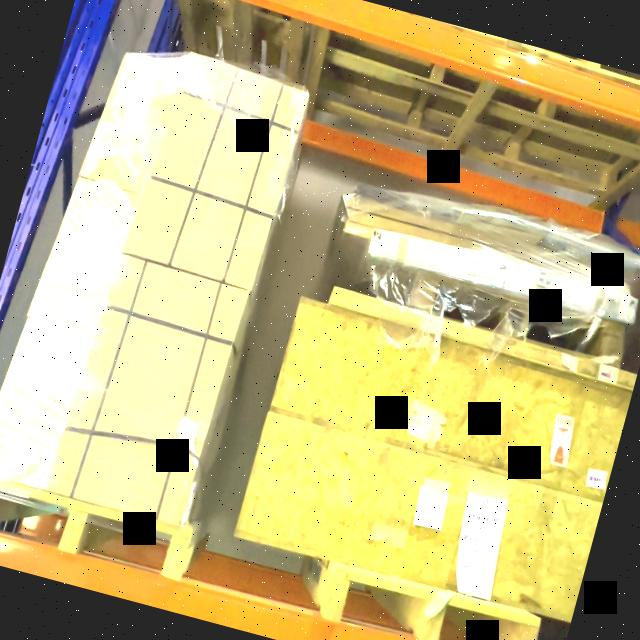box: (44, 255, 249, 524), (122, 49, 310, 292), (28, 175, 141, 334), (0, 315, 97, 487), (78, 47, 188, 195)
